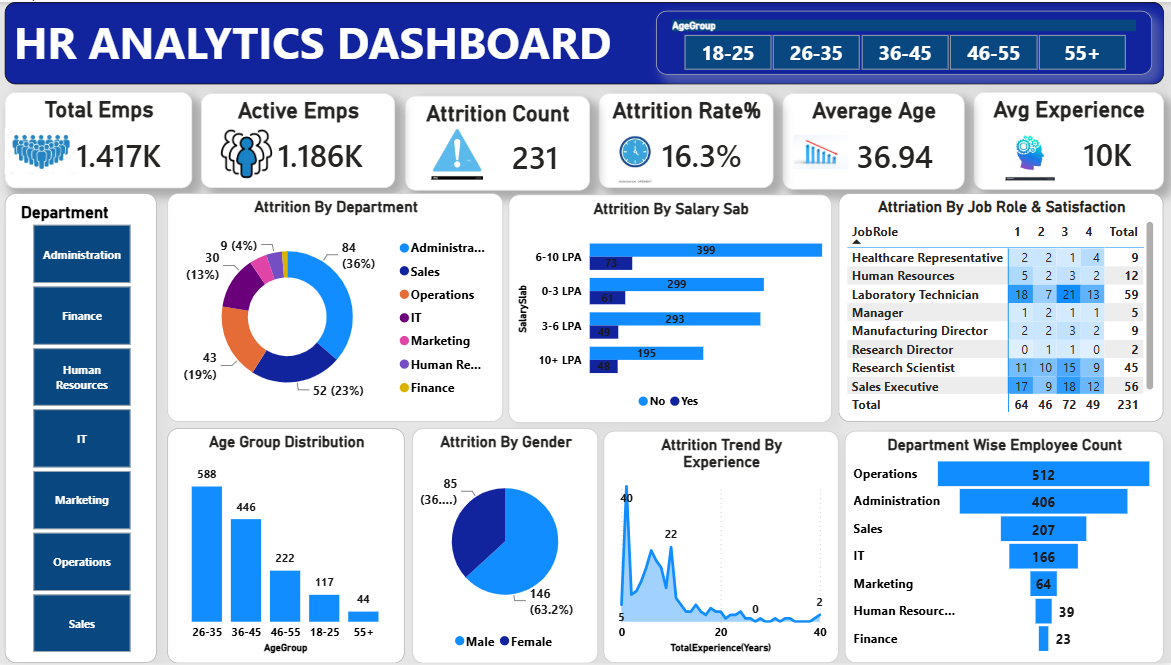

This screenshot's page, from the dashboard's own definition file:
{"tool":"powerbi","page":{"name":"Page 1","canvas":[1280,720],"ordinal":0},"visuals":[{"type":"textbox","box":[9.5,0,1261.2,89.9],"z":0},{"type":"cardVisual","title":"Total Emps","fields":{"Data":["CountNonNull(HR_Analytics-4.EmpID)"]},"box":[9.5,98,204.1,104.8],"z":1000},{"type":"cardVisual","title":"Avg Experience","fields":{"Data":["Sum(HR_Analytics-4.YearsatCompany)"]},"box":[1063.9,98,206.8,106.1],"z":2000},{"type":"cardVisual","title":"Average Age","fields":{"Data":["Avg(HR_Analytics-4.Age)"]},"box":[855.8,99.3,198.6,104.8],"z":3000},{"type":"cardVisual","title":"Attrition Rate%","fields":{"Data":["HR_Analytics-4.Attrition Rate"]},"box":[655.8,99.3,190.5,103.4],"z":4000},{"type":"cardVisual","title":"Attrition Count","fields":{"Data":["Sum(HR_Analytics-4.AttritionCount)"]},"box":[444.9,102,201.4,103.4],"z":5000},{"type":"cardVisual","title":"Active Emps","fields":{"Data":["CountNonNull(HR_Analytics-4.EmployeeCount)"]},"box":[223.1,99.3,210.9,103.4],"z":6000},{"type":"image","box":[1074.8,137.4,102,57.1],"z":7000},{"type":"image","box":[223.1,133.3,99.3,59.9],"z":8000},{"type":"image","box":[661.2,133.3,69.4,63.9],"z":9000},{"type":"image","box":[434,133.3,136.1,59.9],"z":10000},{"type":"image","box":[9.5,125.2,78.9,74.8],"z":11000},{"type":"image","box":[868,129.3,59.9,68],"z":12000},{"type":"donutChart","title":"Attrition By Department","fields":{"Category":["HR_Analytics-4.Department"],"Y":["Sum(HR_Analytics-4.AttritionCount)"]},"box":[186.4,208.2,366,249],"z":13000},{"type":"clusteredBarChart","title":"Attrition By Salary Sab","fields":{"Category":["HR_Analytics-4.SalarySlab"],"Y":["CountNonNull(HR_Analytics-4.EmpID)"],"Series":["HR_Analytics-4.Attrition"]},"box":[557.8,209.5,352.4,249],"z":14000},{"type":"pivotTable","title":"Attriation By Job Role & Satisfaction","fields":{"Rows":["HR_Analytics-4.JobRole"],"Values":["Sum(HR_Analytics-4.AttritionCount)"],"Columns":["HR_Analytics-4.JobSatisfaction"]},"box":[917,208.2,353.7,249],"z":15000},{"type":"columnChart","title":"Age Group Distribution","fields":{"Category":["HR_Analytics-4.AgeGroup"],"Y":["Sum(HR_Analytics-4.EmployeeCount)"]},"box":[186.4,463.9,258.5,255.8],"z":16000},{"type":"pieChart","title":"Attrition By Gender ","fields":{"Y":["Sum(HR_Analytics-4.AttritionCount)"],"Category":["HR_Analytics-4.Gender"]},"box":[453.1,463.9,202.7,255.8],"z":17000},{"type":"areaChart","title":"Attrition Trend By Experience","fields":{"Category":["HR_Analytics-4.TotalExperience(Years)"],"Y2":["Sum(HR_Analytics-4.AttritionCount)"]},"box":[661.2,466.7,255.8,253.1],"z":18000},{"type":"funnel","title":"Department Wise Employee Count","fields":{"Category":["HR_Analytics-4.Department"],"Y":["CountNonNull(HR_Analytics-4.EmpID)"]},"box":[923.8,466.7,346.9,253.1],"z":19000},{"type":"slicer","fields":{"Values":["HR_Analytics-4.Department"]},"box":[9.5,208.2,166,511.6],"z":20000},{"type":"slicer","fields":{"Values":["HR_Analytics-4.AgeGroup"]},"box":[718.4,9.5,540.1,69.4],"z":21000}]}

Visuals, with their boxes in screenshot pixels (x1, y1, x2, y2), scaled from the page's 1280x720 canvas onto the 1171x665 screenshot:
textbox: Rect(9, 0, 1162, 83)
"Total Emps" cardVisual: Rect(9, 91, 195, 187)
"Avg Experience" cardVisual: Rect(973, 91, 1162, 189)
"Average Age" cardVisual: Rect(783, 92, 965, 189)
"Attrition Rate%" cardVisual: Rect(600, 92, 774, 187)
"Attrition Count" cardVisual: Rect(407, 94, 591, 190)
"Active Emps" cardVisual: Rect(204, 92, 397, 187)
image: Rect(983, 127, 1077, 180)
image: Rect(204, 123, 295, 178)
image: Rect(605, 123, 668, 182)
image: Rect(397, 123, 522, 178)
image: Rect(9, 116, 81, 185)
image: Rect(794, 119, 849, 182)
"Attrition By Department" donutChart: Rect(171, 192, 505, 422)
"Attrition By Salary Sab" clusteredBarChart: Rect(510, 193, 833, 423)
"Attriation By Job Role & Satisfaction" pivotTable: Rect(839, 192, 1162, 422)
"Age Group Distribution" columnChart: Rect(171, 428, 407, 664)
"Attrition By Gender " pieChart: Rect(415, 428, 600, 664)
"Attrition Trend By Experience" areaChart: Rect(605, 431, 839, 664)
"Department Wise Employee Count" funnel: Rect(845, 431, 1162, 664)
slicer - HR_Analytics-4.Department: Rect(9, 192, 161, 664)
slicer - HR_Analytics-4.AgeGroup: Rect(657, 9, 1151, 73)
